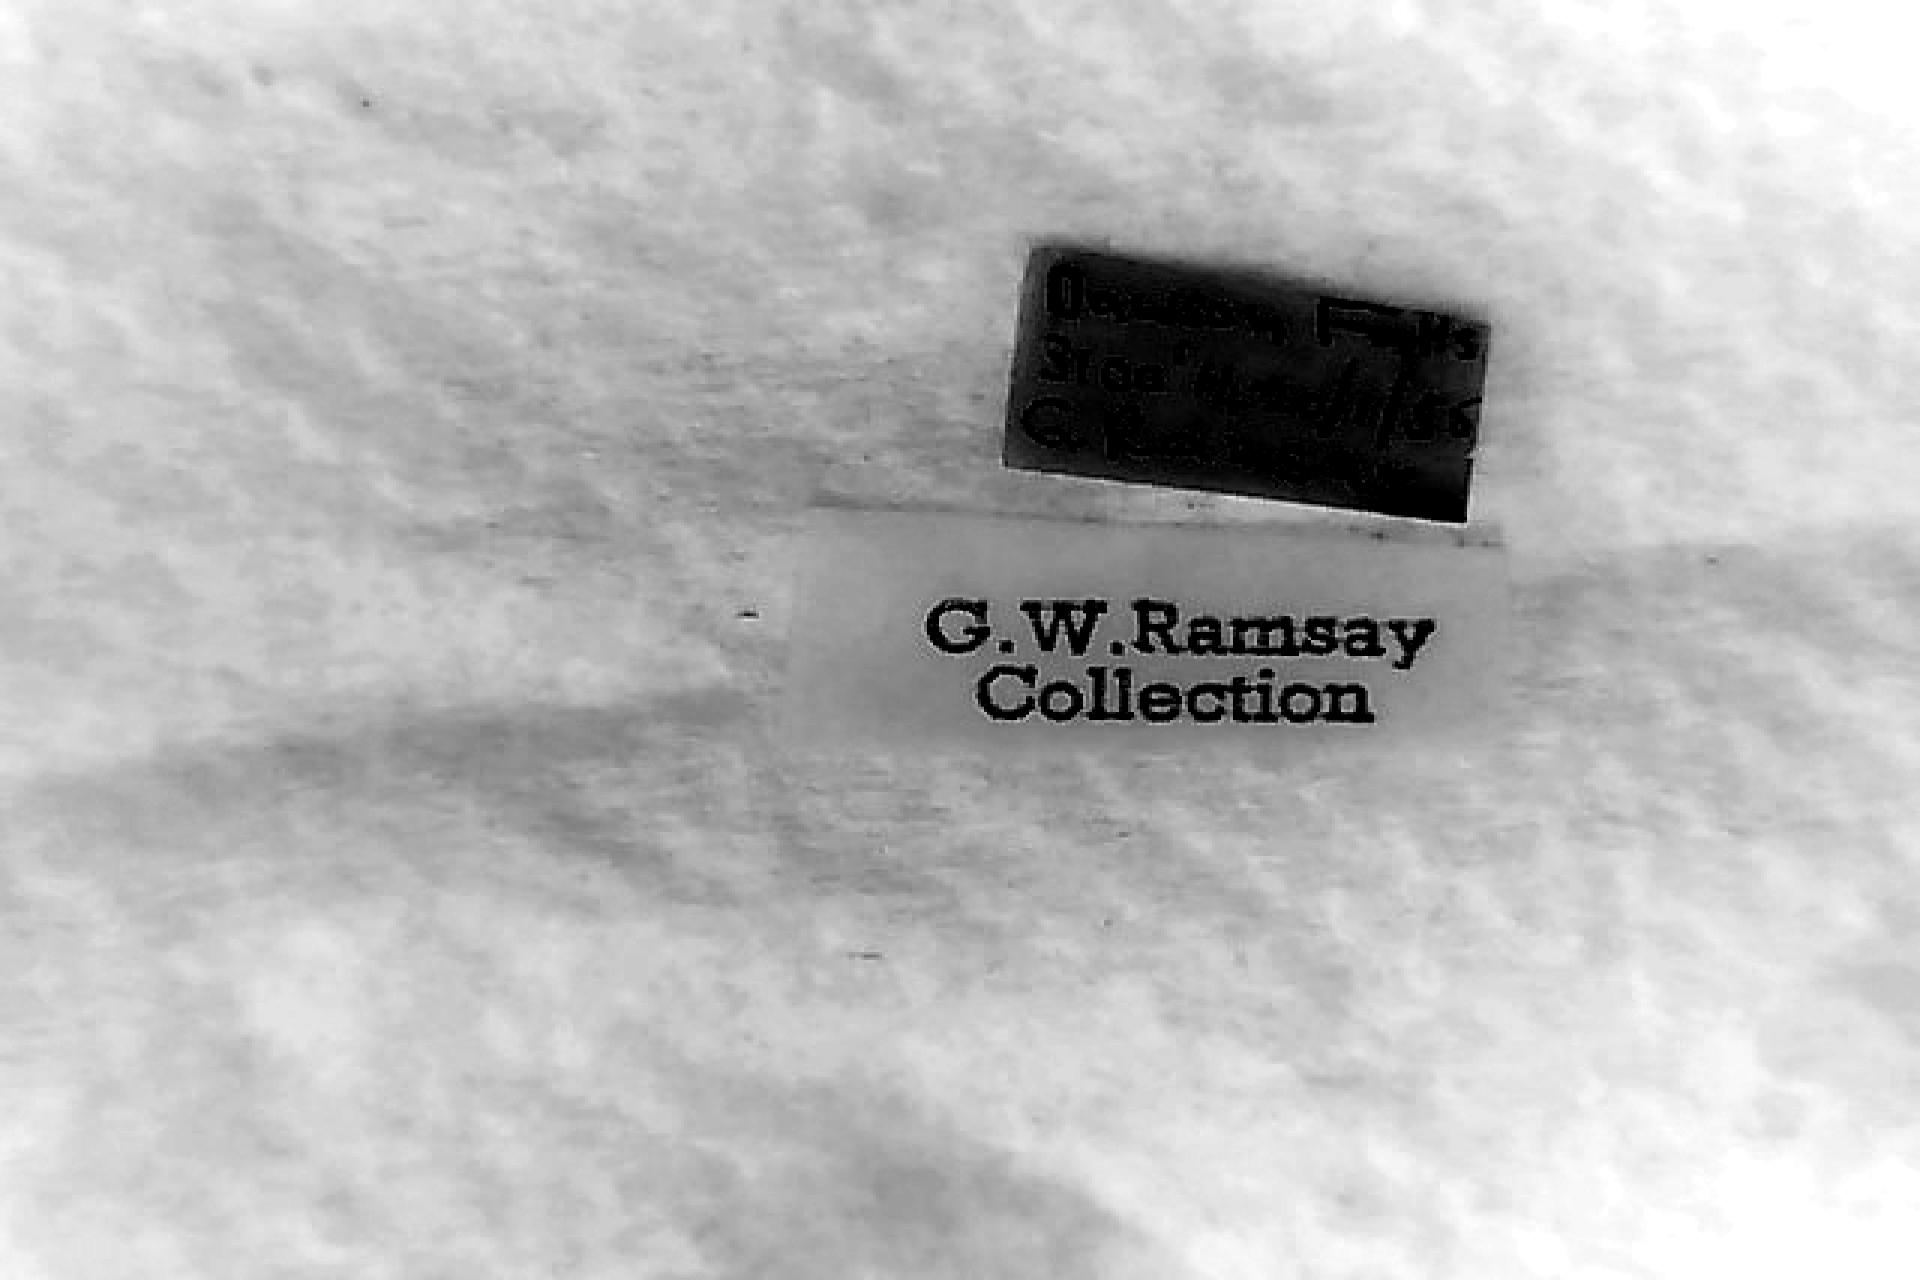hand_label: (1006, 251, 1487, 519)
typed_label: (787, 510, 1504, 753)
